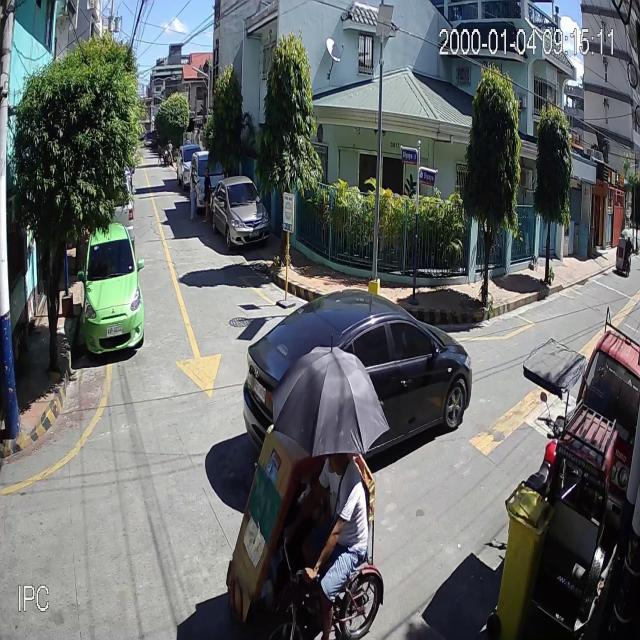standing: (188, 166, 200, 221), (202, 166, 213, 223)
walking: (156, 142, 162, 164)
